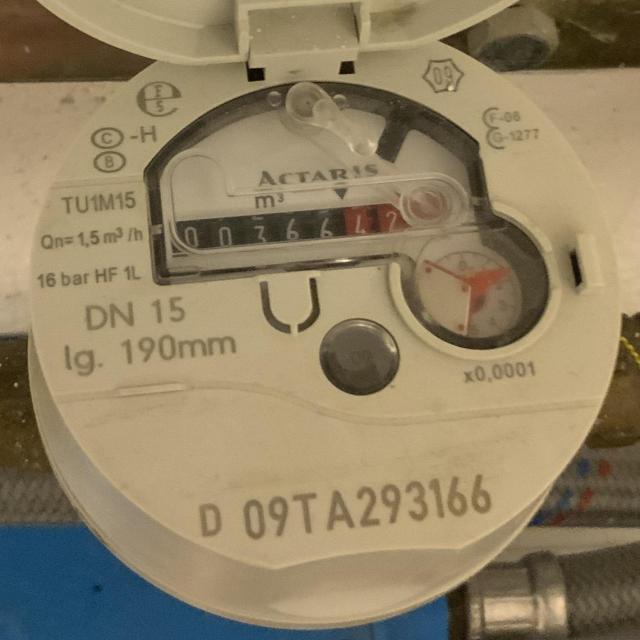gaz_meter: (31, 41, 626, 572)
indication: (170, 199, 414, 258)
